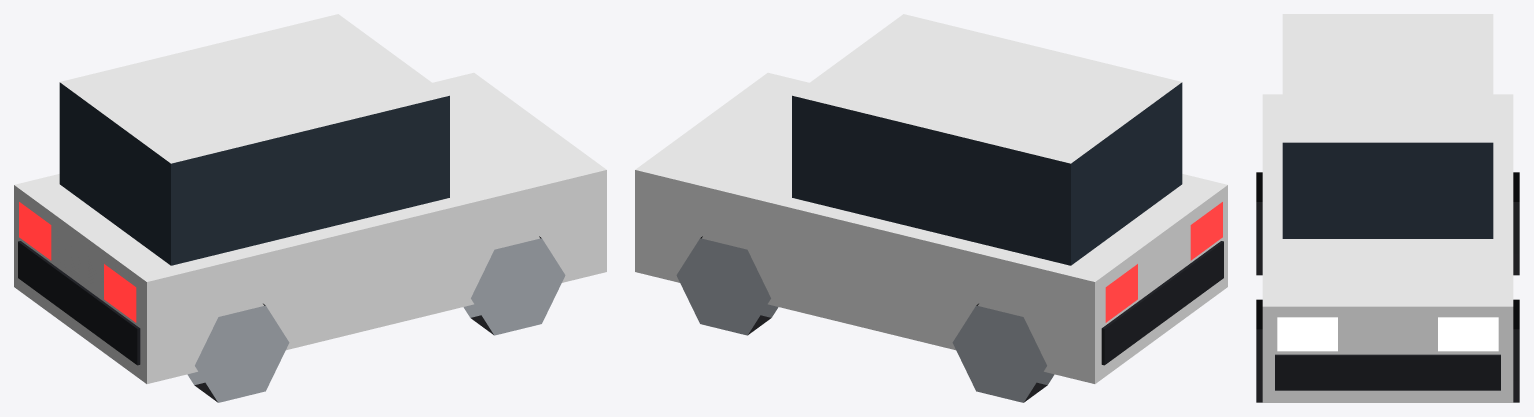
The model's file is car_hatch.glb.
3 views of the same model, side by side, from view 1: azimuth 30°, elevation 25°; view 2: azimuth 150°, elevation 25°; view 3: azimuth 270°, elevation 25° (orthographic). The views are drawn at different scales.
Visible parts, largest first — view 1: car_hatch; view 2: car_hatch; view 3: car_hatch.
Part boxes in pixels (<box>): car_hatch: <box>14,14,606,402</box>; car_hatch: <box>635,14,1227,402</box>; car_hatch: <box>1256,14,1519,402</box>.
Size of the model in its own units: 0.334 by 0.1626 by 0.173.
